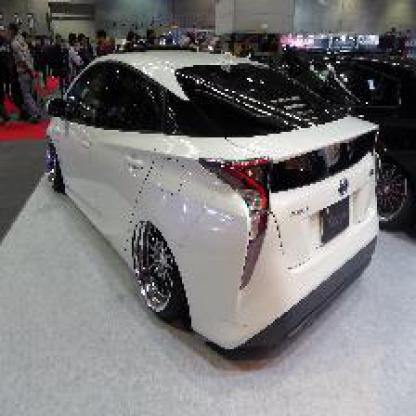not_emergency: (22, 44, 386, 353)
